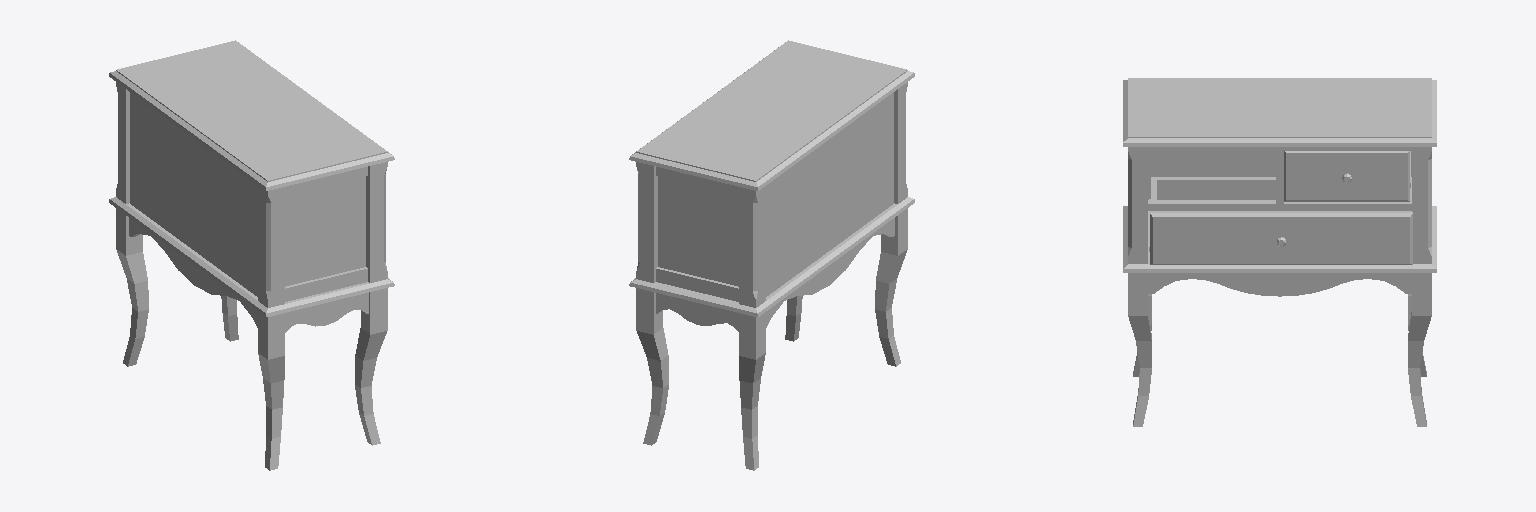
The model's file is dresser.obj.
The picture shows the model from 3 angles: view 1: azimuth 30°, elevation 25°; view 2: azimuth 150°, elevation 25°; view 3: azimuth 270°, elevation 25°; orthographic projection.
Parts seen in each view (by area): view 1: SM_HallwayDresser; view 2: SM_HallwayDresser; view 3: SM_HallwayDresser, SM_HallwayDresser_Drawer_C, SM_HallwayDresser_Drawer_B.
Boxes of the visible parts, <box> form: SM_HallwayDresser: <box>109,40,394,470</box>; SM_HallwayDresser: <box>629,40,914,470</box>; SM_HallwayDresser: <box>1123,78,1436,426</box>; SM_HallwayDresser_Drawer_C: <box>1149,177,1412,264</box>; SM_HallwayDresser_Drawer_B: <box>1284,151,1410,201</box>.
Size of the model in its own units: 0.4793 by 0.9748 by 0.95.